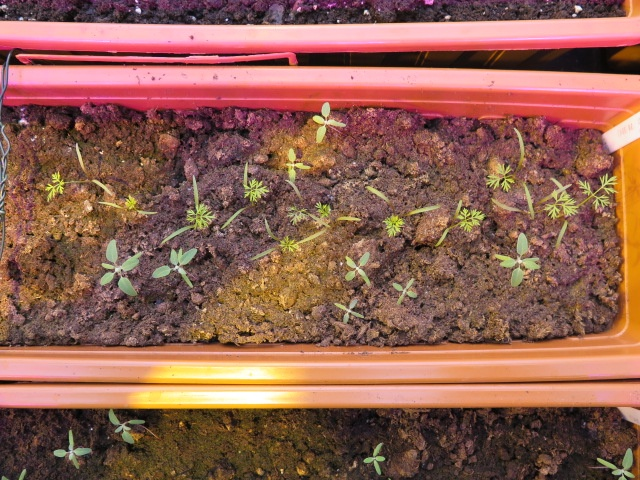weed: (491, 226, 542, 291), (96, 233, 143, 299), (150, 245, 198, 291), (51, 424, 94, 471), (310, 97, 349, 147), (107, 408, 147, 445), (342, 244, 372, 288), (330, 292, 366, 326), (360, 438, 387, 477), (389, 274, 419, 309)
